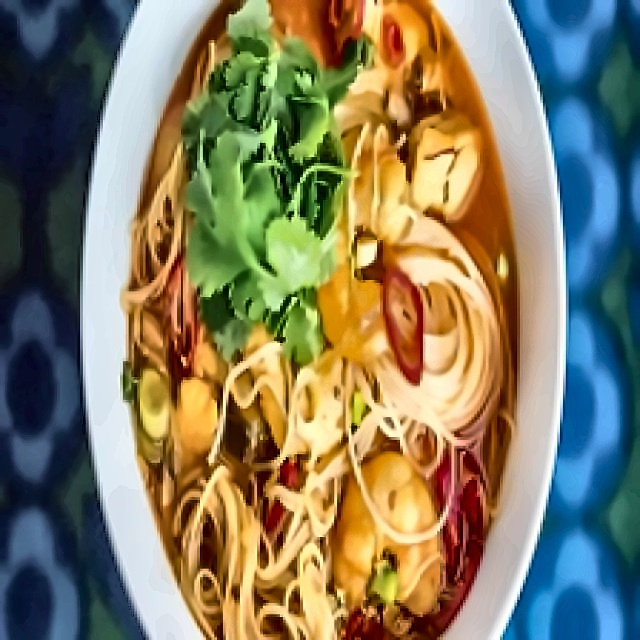noodle: (354, 216, 517, 520), (192, 454, 348, 637)
shrimp: (303, 115, 425, 385)
